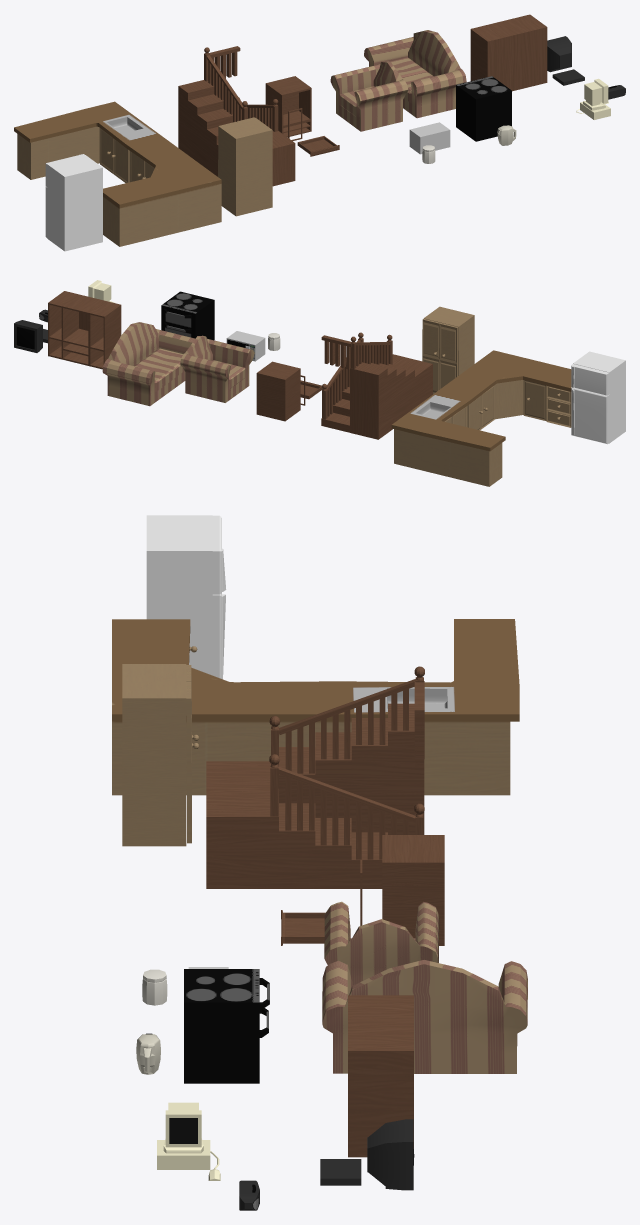
Rendered from vARIOUS_eLEN.fbx.
3 renders of one model, top to bottom at view 1: azimuth 30°, elevation 25°; view 2: azimuth 150°, elevation 25°; view 3: azimuth 270°, elevation 25°, orthographic. The views are drawn at different scales.
Visible parts, largest first — view 1: pCube24, polySurface2, EH_twoseatlounge01, EH_tvcabinet01, EH_pantrydoor03, EH_oneseatlounge01, polySurface4, EH_oven01, EH_displaycabinent01, polySurface3, polySurface18, EH_mircowave (+9 smaller); view 2: pCube24, EH_twoseatlounge01, polySurface4, EH_tvcabinet01, polySurface2, EH_oneseatlounge01, EH_pantrydoor03, EH_displaycabinent01, EH_oven01, EH_tvcabinetdoor01, EH_tv01, polySurface3 (+10 smaller); view 3: pCube24, EH_twoseatlounge01, polySurface3, EH_pantrydoor03, polySurface4, polySurface2, EH_tvcabinet01, EH_oven01, EH_oneseatlounge01, EH_displaycabinent01, polySurface13, polySurface18 (+5 smaller).
Boxes of the visible parts, left/top/right/bottom form: pCube24: left=14, top=101, right=221, bottom=246; polySurface2: left=45, top=154, right=102, bottom=251; EH_twoseatlounge01: left=364, top=30, right=466, bottom=118; EH_tvcabinet01: left=470, top=14, right=547, bottom=91; EH_pantrydoor03: left=218, top=117, right=272, bottom=216; EH_oneseatlounge01: left=330, top=61, right=408, bottom=131; polySurface4: left=178, top=80, right=232, bottom=176; EH_oven01: left=456, top=76, right=511, bottom=141; EH_displaycabinent01: left=265, top=76, right=311, bottom=137; polySurface3: left=272, top=131, right=295, bottom=186; polySurface18: left=206, top=55, right=243, bottom=122; EH_mircowave: left=409, top=122, right=450, bottom=154; pCube24: left=391, top=350, right=571, bottom=486; EH_twoseatlounge01: left=102, top=322, right=194, bottom=406; polySurface4: left=350, top=357, right=432, bottom=439; EH_tvcabinet01: left=48, top=291, right=121, bottom=369; polySurface2: left=571, top=351, right=625, bottom=444; EH_oneseatlounge01: left=180, top=335, right=254, bottom=402; EH_pantrydoor03: left=422, top=306, right=474, bottom=394; EH_displaycabinent01: left=256, top=361, right=300, bottom=421; EH_oven01: left=161, top=291, right=214, bottom=340; EH_tvcabinetdoor01: left=523, top=380, right=546, bottom=420; EH_tv01: left=14, top=320, right=42, bottom=352; polySurface3: left=321, top=354, right=403, bottom=432; pCube24: left=112, top=619, right=519, bottom=795; EH_twoseatlounge01: left=322, top=960, right=527, bottom=1073; polySurface3: left=206, top=789, right=387, bottom=888; EH_pantrydoor03: left=122, top=664, right=191, bottom=846; polySurface4: left=206, top=703, right=424, bottom=834; polySurface2: left=146, top=515, right=226, bottom=679; EH_tvcabinet01: left=348, top=995, right=413, bottom=1157; EH_oven01: left=184, top=969, right=269, bottom=1083; EH_oneseatlounge01: left=324, top=901, right=439, bottom=985; EH_displaycabinent01: left=382, top=835, right=444, bottom=945; polySurface13: left=278, top=767, right=415, bottom=859; polySurface18: left=279, top=679, right=415, bottom=773.
Size of the model in its own units: 19.6 by 3.32 by 6.3.
Materials: 8 (8 with a texture image).
